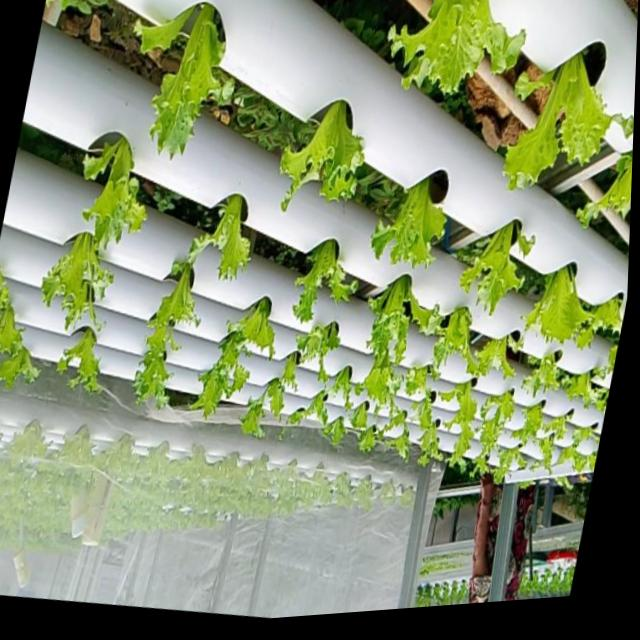Baby: (509, 57, 634, 193), (394, 0, 531, 96), (154, 4, 237, 160), (137, 256, 203, 408), (285, 101, 369, 212), (376, 170, 453, 267), (88, 137, 151, 250), (46, 233, 117, 331), (464, 220, 534, 315), (525, 266, 595, 348), (296, 240, 362, 323), (191, 195, 255, 280), (193, 332, 252, 418), (431, 306, 491, 378), (477, 390, 519, 473), (300, 321, 351, 382), (358, 349, 406, 412), (232, 297, 279, 358), (61, 328, 104, 393), (0, 287, 28, 361), (496, 448, 530, 484), (517, 404, 546, 446), (386, 406, 410, 438), (408, 367, 432, 396), (542, 435, 558, 472)
